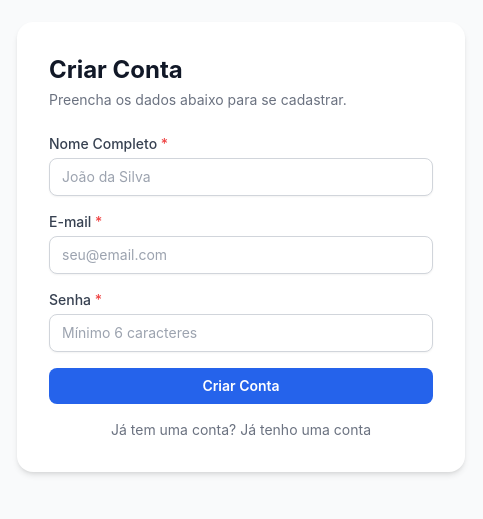
Test: CadastroPage — validação client-side › exibe erro quando e-mail está vazio
Type "A" into the field labelled "Nome Completo *". click: (241, 177)
box: [49,158,433,196]
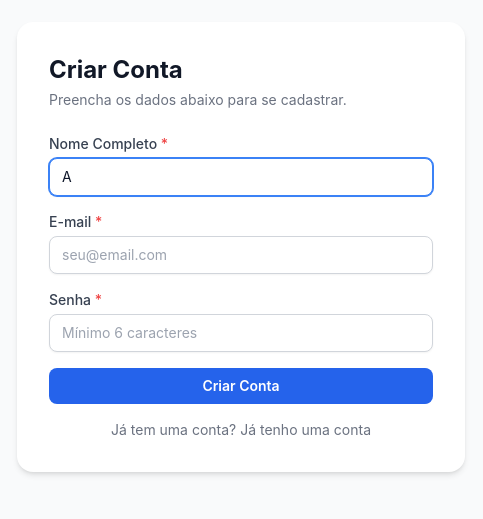
Click the button "Criar Conta". click: (241, 386)
box: [49,368,433,404]
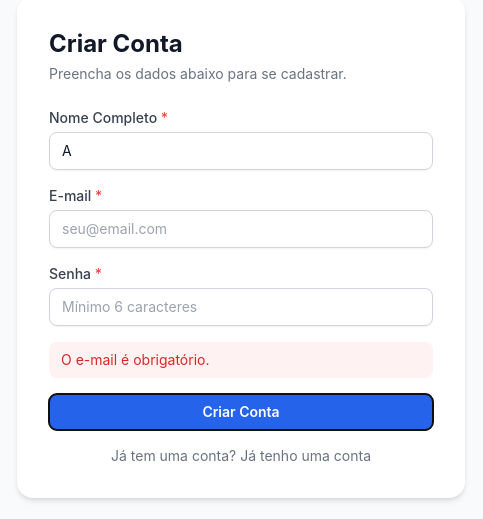
Check: the text "O e-mail é obrigatório." is shown, box [49,342,433,378]
